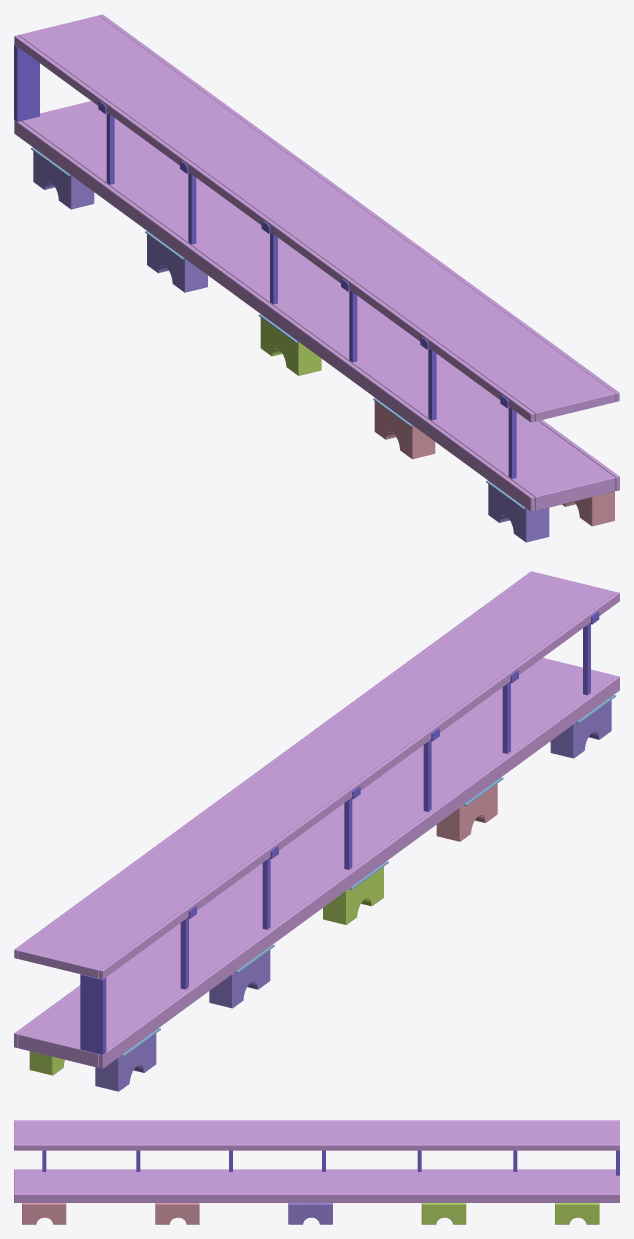
Rendered from shelfA.fbx.
3 views of the same model, one above another, from view 1: azimuth 30°, elevation 25°; view 2: azimuth 150°, elevation 25°; view 3: azimuth 270°, elevation 25° (orthographic). The views are drawn at different scales.
Parts seen in each view (by area): view 1: shelfA; view 2: shelfA; view 3: shelfA.
Boxes of the visible parts, bbox=[...] form: shelfA: bbox=[14, 14, 619, 542]; shelfA: bbox=[14, 571, 619, 1091]; shelfA: bbox=[14, 1120, 619, 1224].
Size of the model in its own units: 94.61 by 130 by 910.
